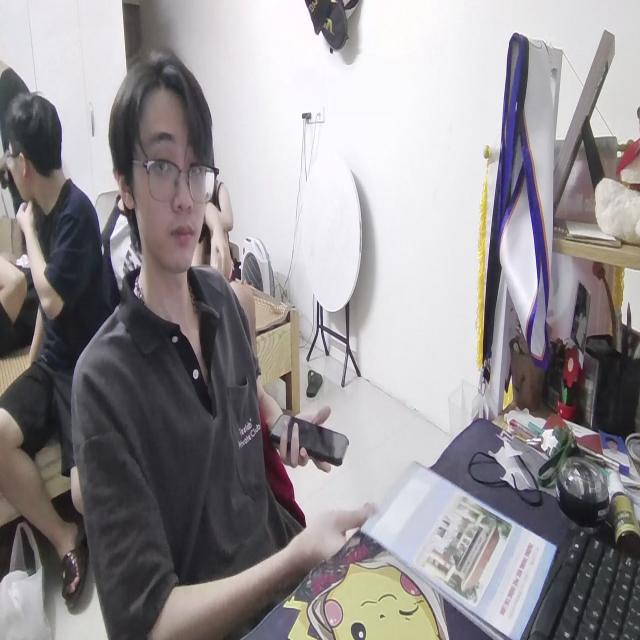book: (363, 450, 554, 640)
extra_person: (0, 94, 116, 608)
phone: (266, 396, 351, 468)
student: (71, 42, 355, 640)
